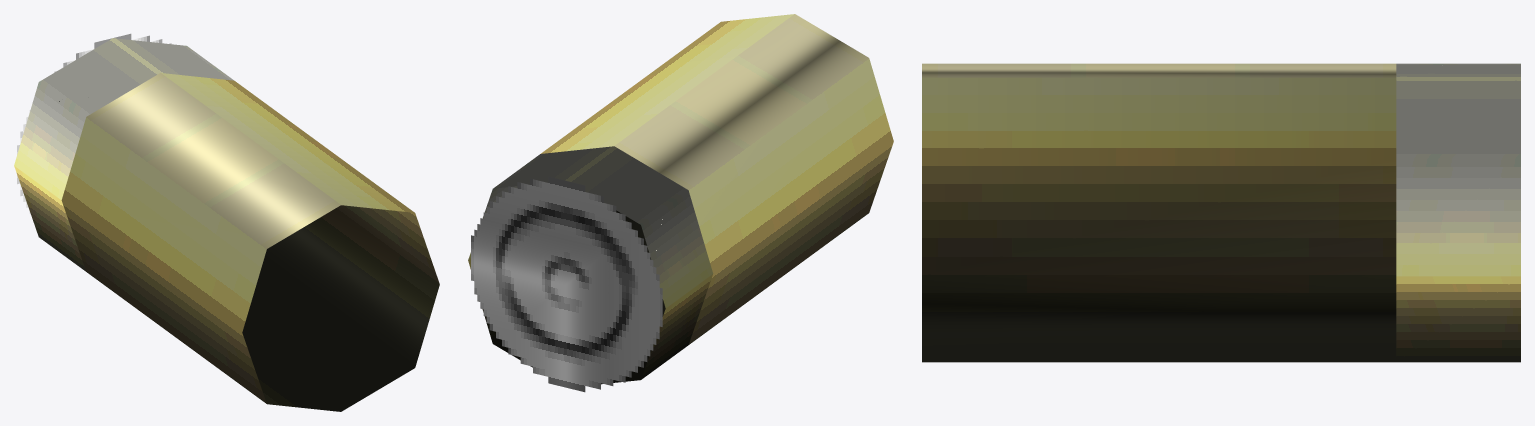
Rendered from GcartshellZ.obj.
3 views of the same model, side by side, from view 1: azimuth 30°, elevation 25°; view 2: azimuth 150°, elevation 25°; view 3: azimuth 270°, elevation 25° (orthographic). The views are drawn at different scales.
Size of the model in its own units: 24 by 24 by 48.
Materials: 2 (2 with a texture image).
